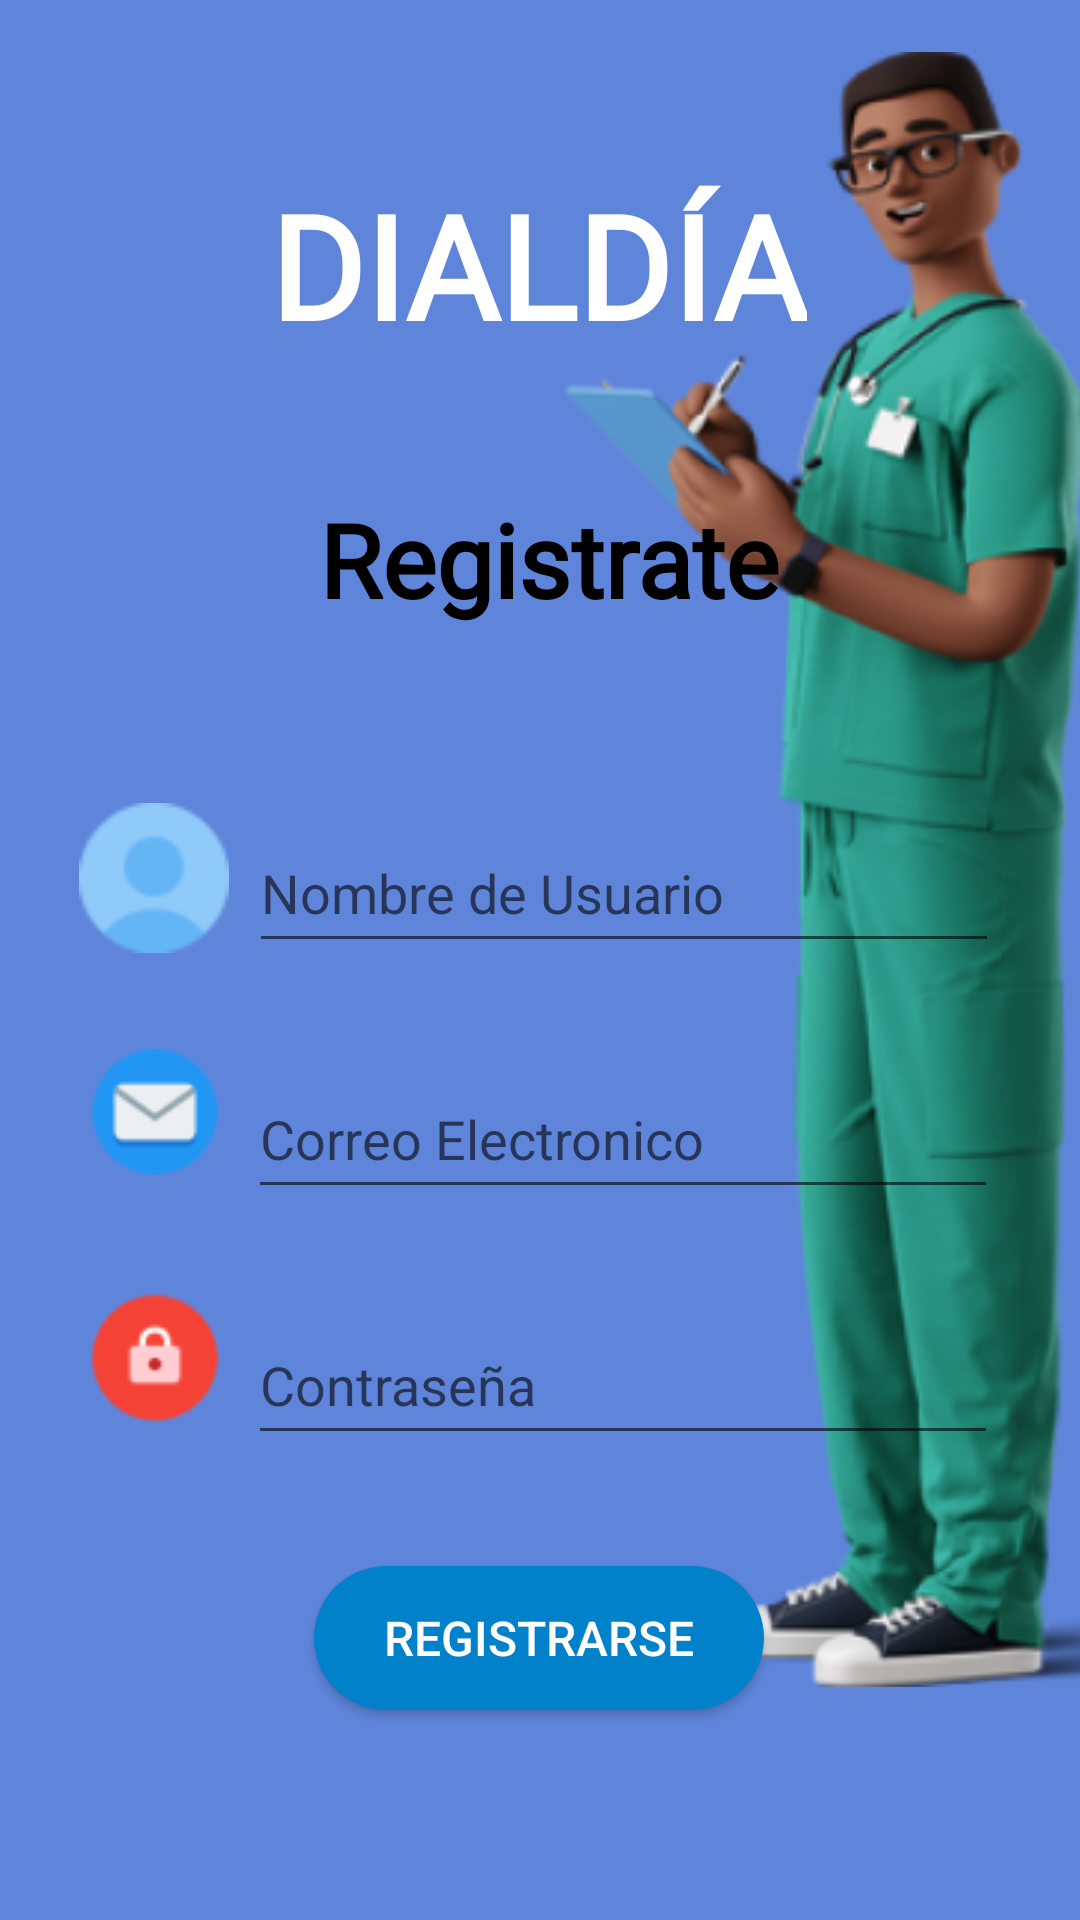

Locate icon controls on the screen. Image size 1080*1920, boxes as (x1, y1, x2, y2).
iconemail: (92, 1049, 218, 1175)
iconpassword: (91, 1294, 219, 1422)
iconuser: (79, 803, 229, 953)
